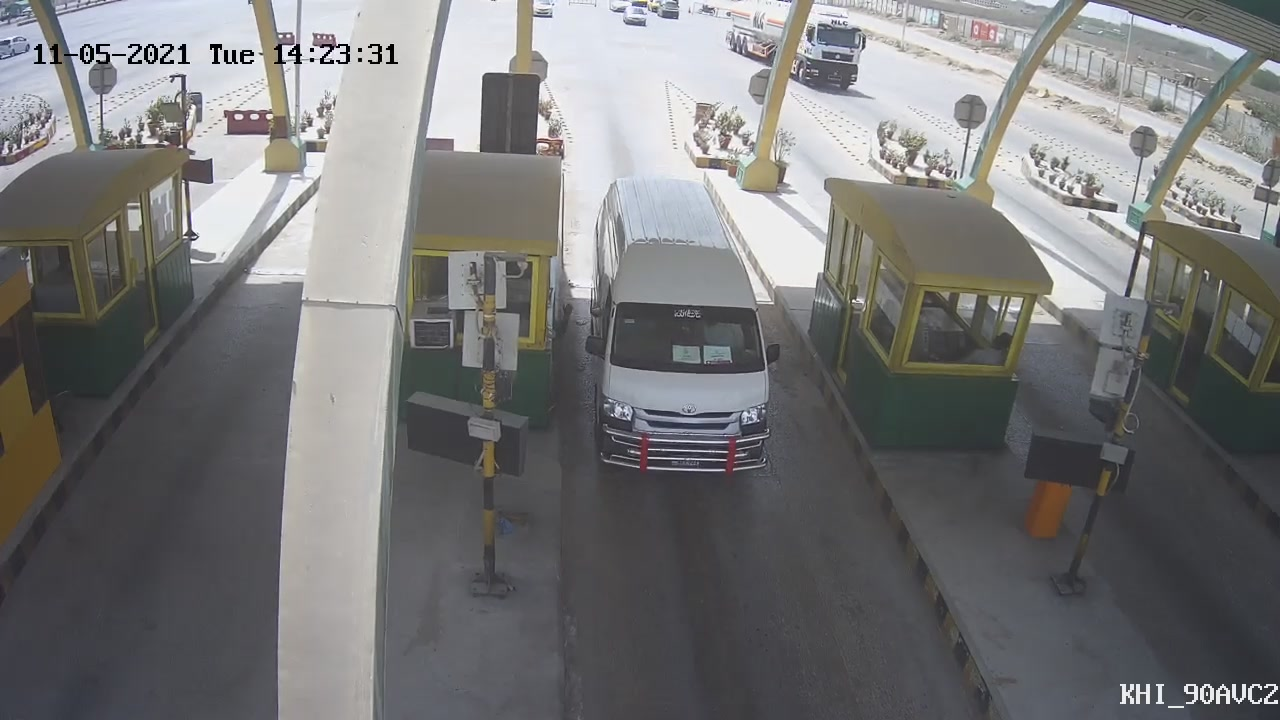F2: (585, 179, 786, 490)
